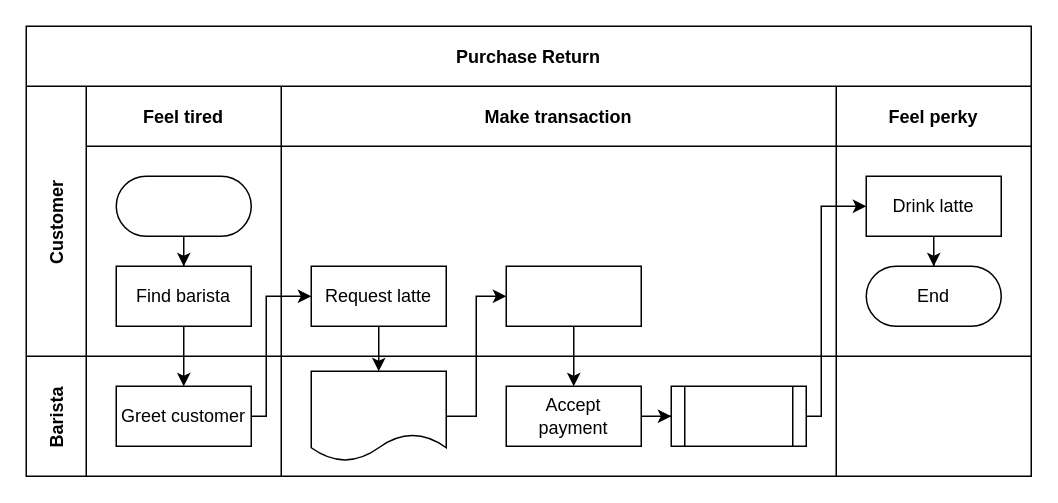
Some shapes in this 1058 by 503 pixel diagram are drawn without their labels. The shapes that lost their labels are listed below. From the top down, each one's centre as x and y in pixels, then its label:
At [183,205]: "Start".
At [573,295]: "Buy latte".
At [378,415]: "Write details on cup".
At [738,415]: "Make latte".
